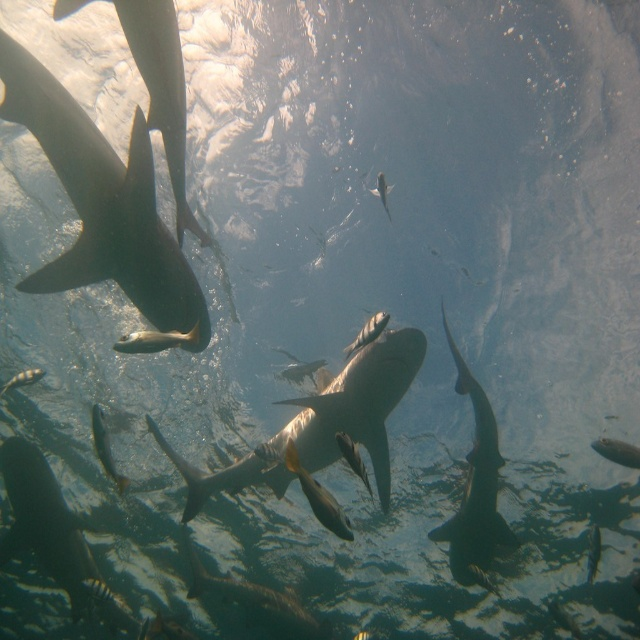Shark: (1, 27, 211, 355), (149, 330, 426, 514), (52, 0, 211, 248), (425, 304, 518, 588)
